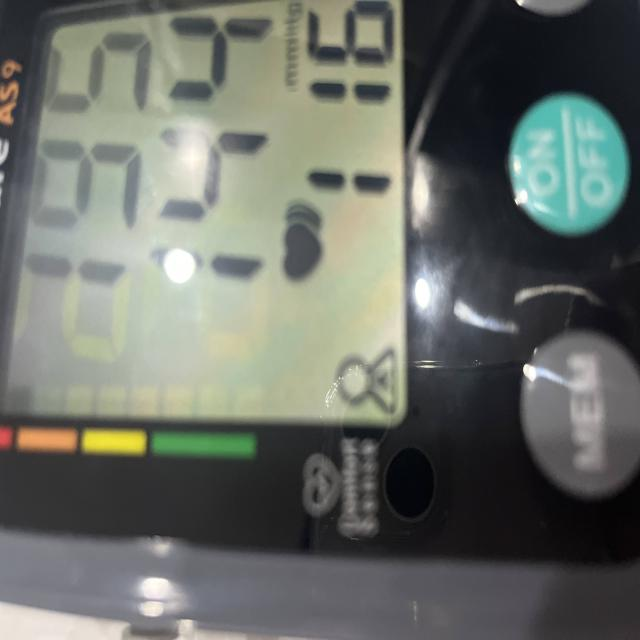bp: (0, 0, 640, 572)
